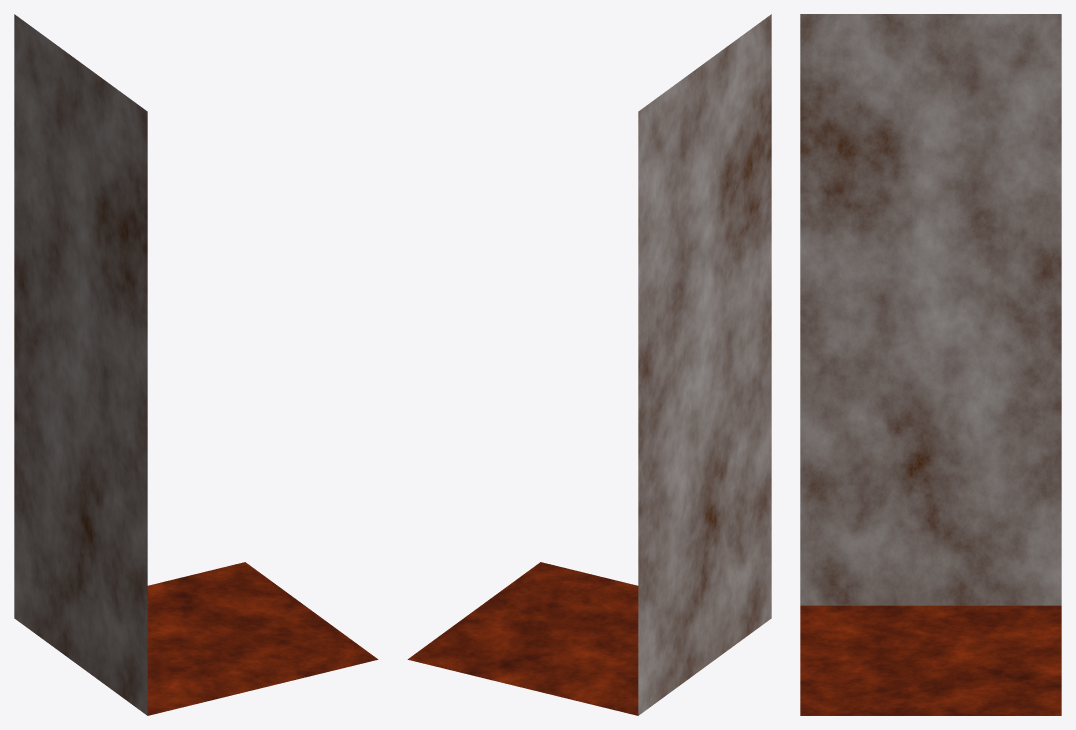
File: MountainWall1.glb
3 renders of one model, left to right at view 1: azimuth 30°, elevation 25°; view 2: azimuth 150°, elevation 25°; view 3: azimuth 270°, elevation 25°, orthographic. The views are drawn at different scales.
Parts seen in each view (by area): view 1: ground.001; view 2: ground.001; view 3: ground.001.
Boxes of the visible parts, left/top/right/bottom form: ground.001: left=14, top=14, right=378, bottom=715; ground.001: left=407, top=14, right=771, bottom=715; ground.001: left=800, top=14, right=1061, bottom=715.
Size of the model in its own units: 2 by 5 by 2.
Materials: 2 (2 with a texture image).
